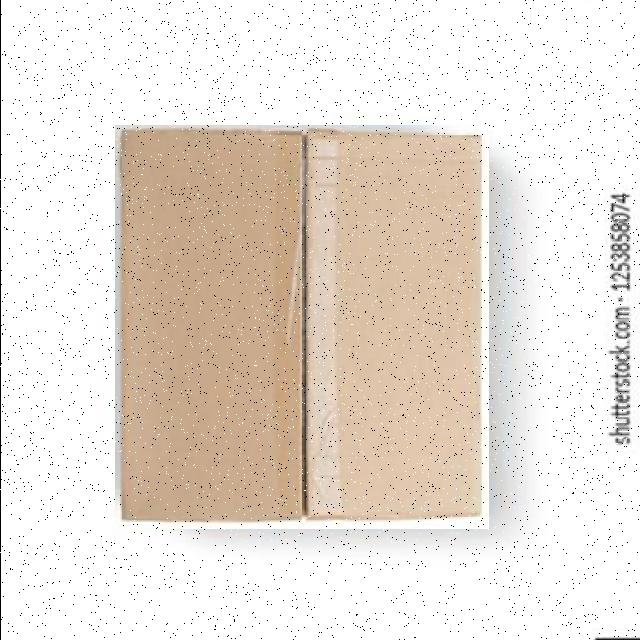normal: (114, 125, 488, 529)
